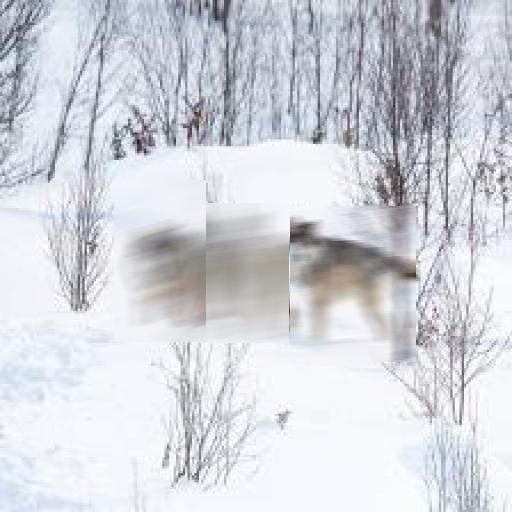wolf: (290, 206, 416, 362), (114, 180, 206, 342), (192, 203, 289, 343)
